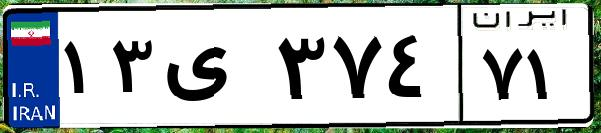1: (57, 26, 110, 100), (525, 38, 570, 115)
3: (270, 28, 330, 110), (110, 28, 158, 98)
4: (385, 28, 445, 110)
7: (330, 28, 385, 110), (475, 38, 525, 113)
ی: (158, 20, 270, 120)
